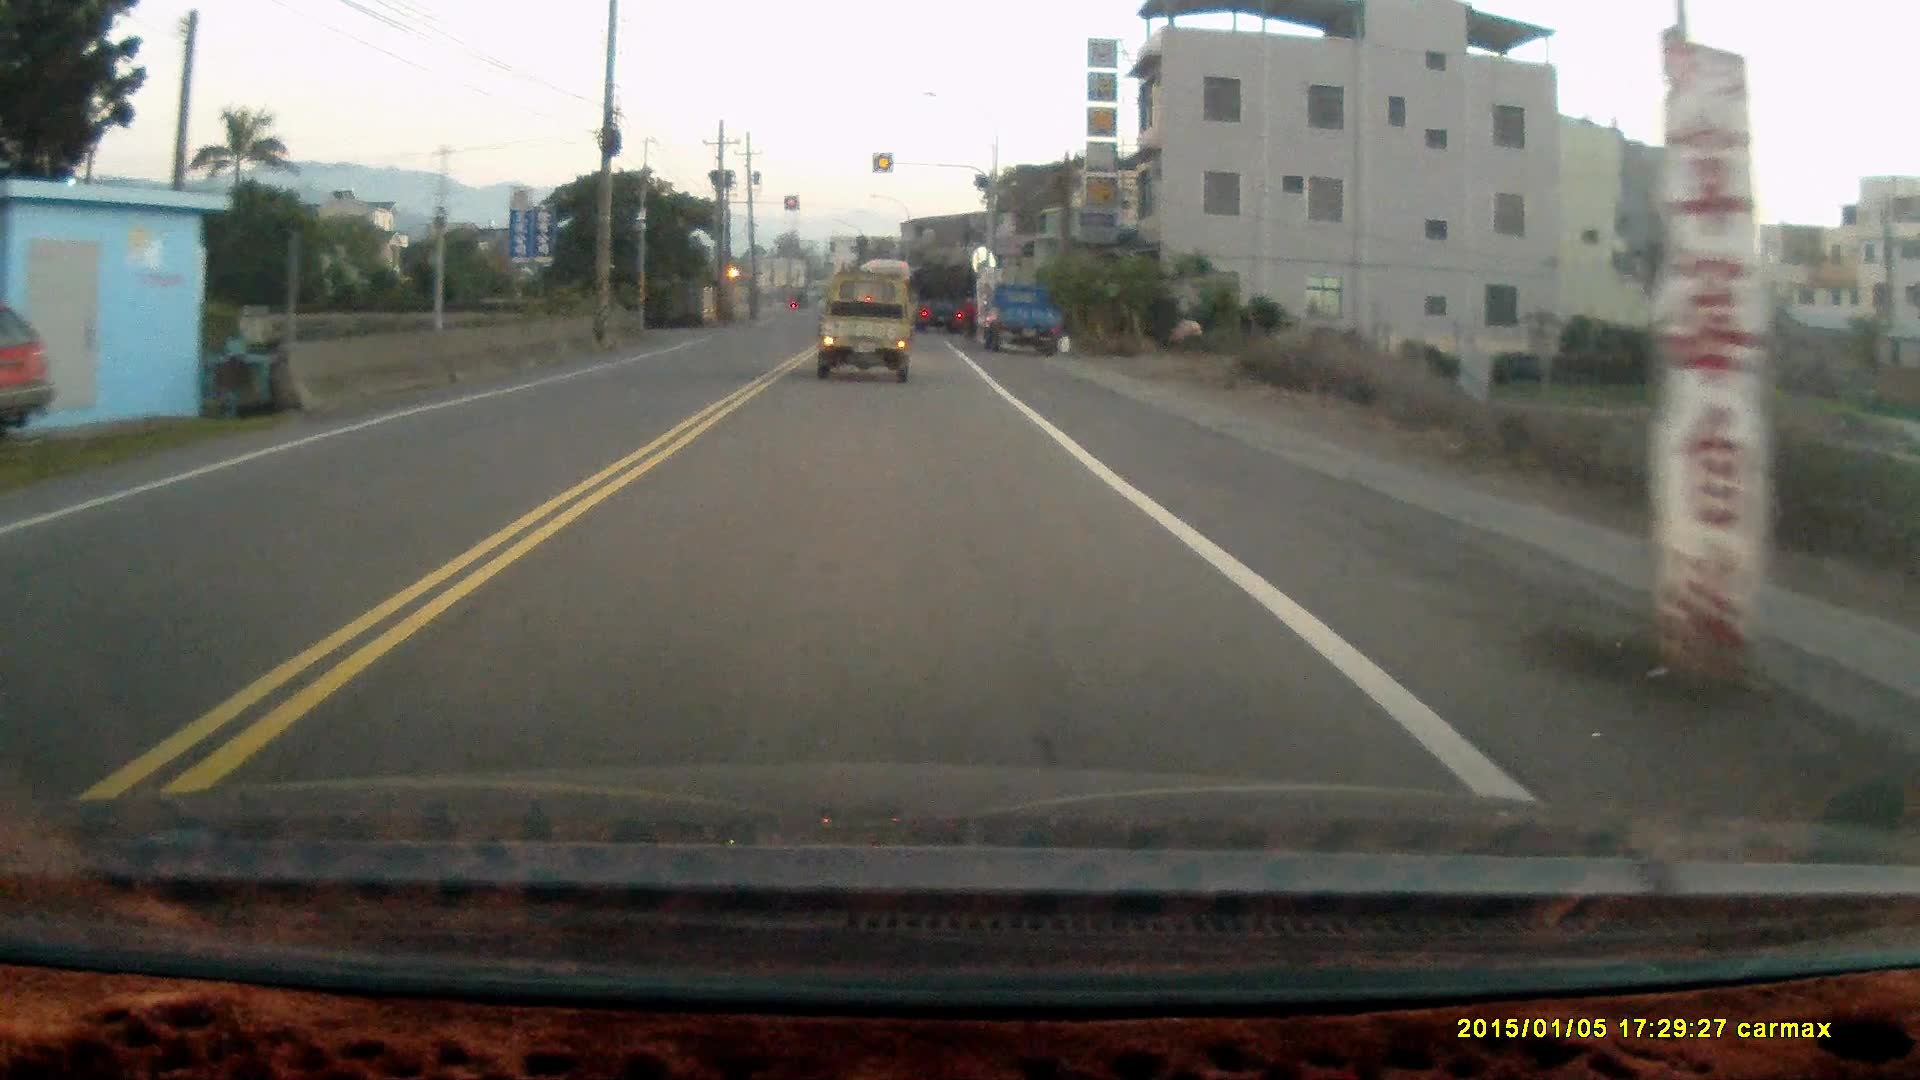vehicle: (814, 276, 916, 382), (976, 278, 1072, 356), (1, 301, 55, 435), (913, 264, 980, 335)
